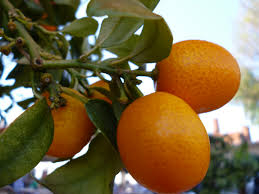orange: (112, 90, 212, 194), (153, 39, 242, 114), (27, 85, 93, 159)
